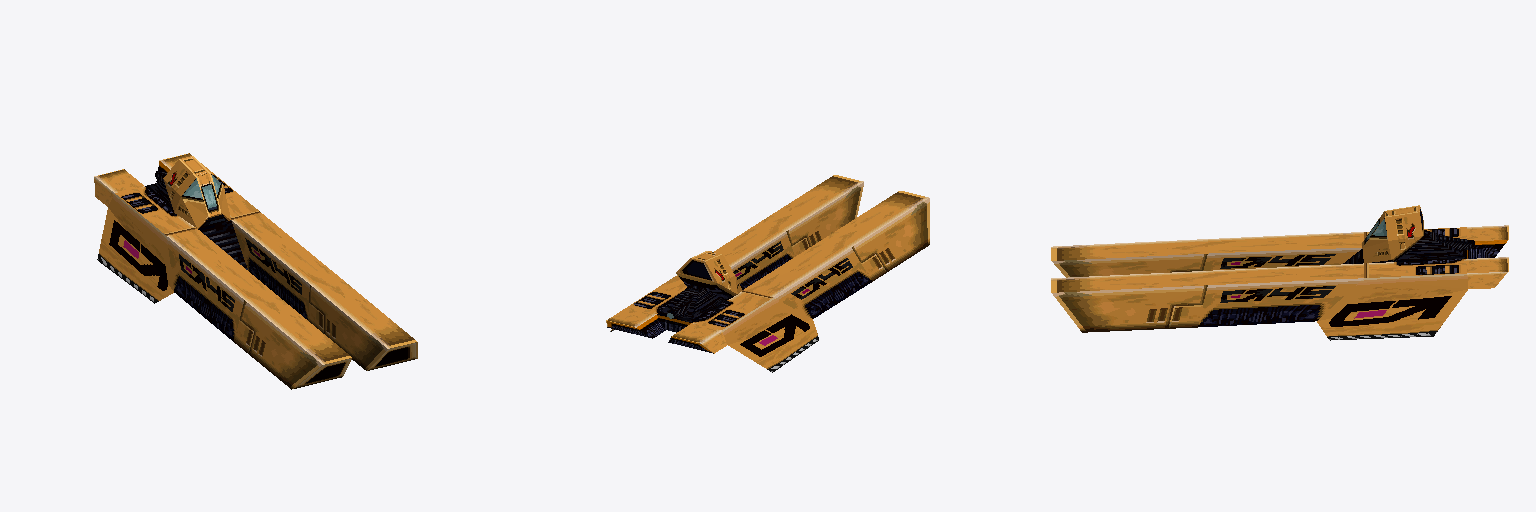
3 renders of one model, left to right at view 1: azimuth 30°, elevation 25°; view 2: azimuth 150°, elevation 25°; view 3: azimuth 270°, elevation 25°, orthographic.
Parts seen in each view (by area): view 1: GameObject; view 2: GameObject; view 3: GameObject.
Part boxes in pixels (left/top/right/bottom): GameObject: left=94, top=153, right=417, bottom=389; GameObject: left=606, top=175, right=929, bottom=372; GameObject: left=1051, top=205, right=1508, bottom=340.
Size of the model in its own units: 3.62 by 2 by 8.76.
Materials: 1 (1 with a texture image).